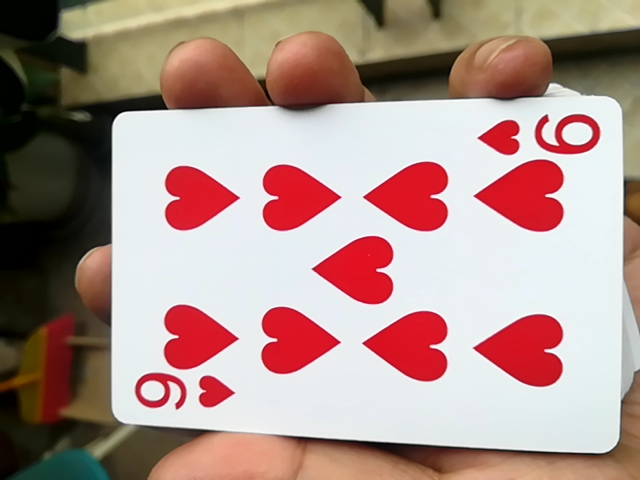hx 9: (97, 107, 623, 462)
